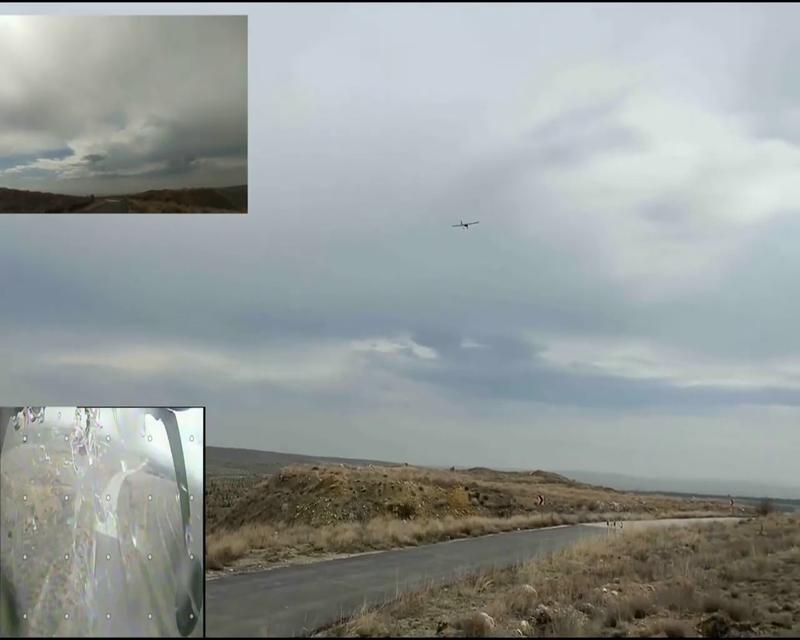UAV: (1, 405, 205, 637), (453, 218, 480, 230)
